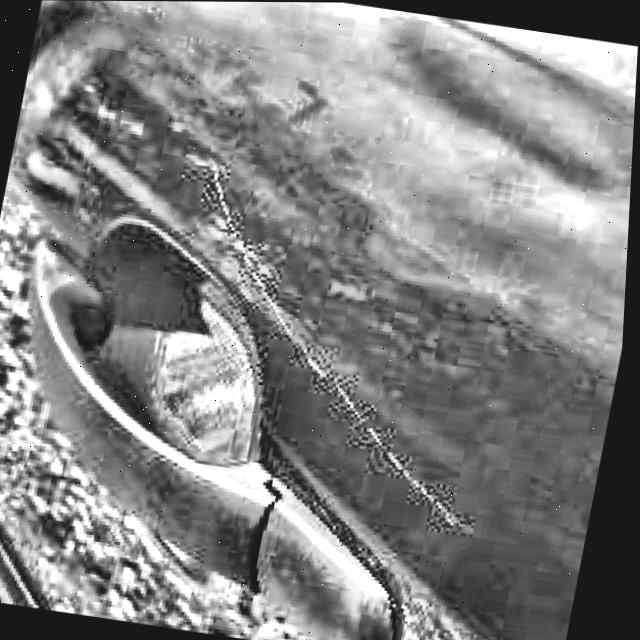door_scratch: (128, 171, 536, 549)
